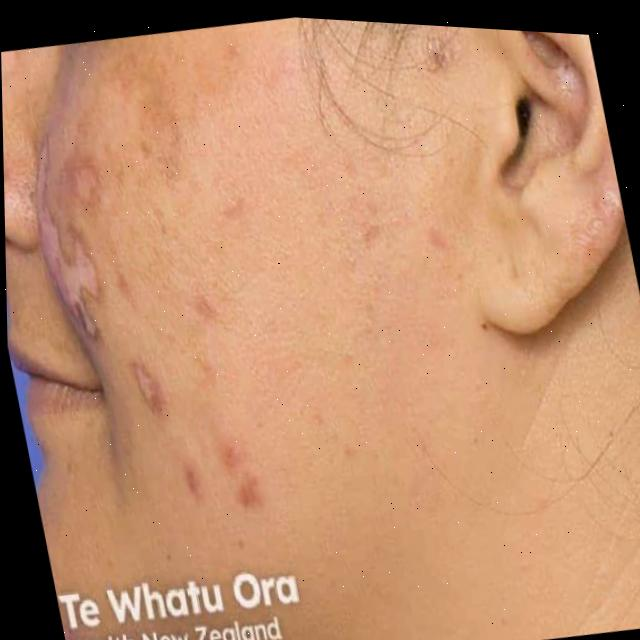lupus-detected: (3, 133, 243, 444), (113, 313, 379, 578), (518, 104, 634, 280), (1, 34, 121, 167)
